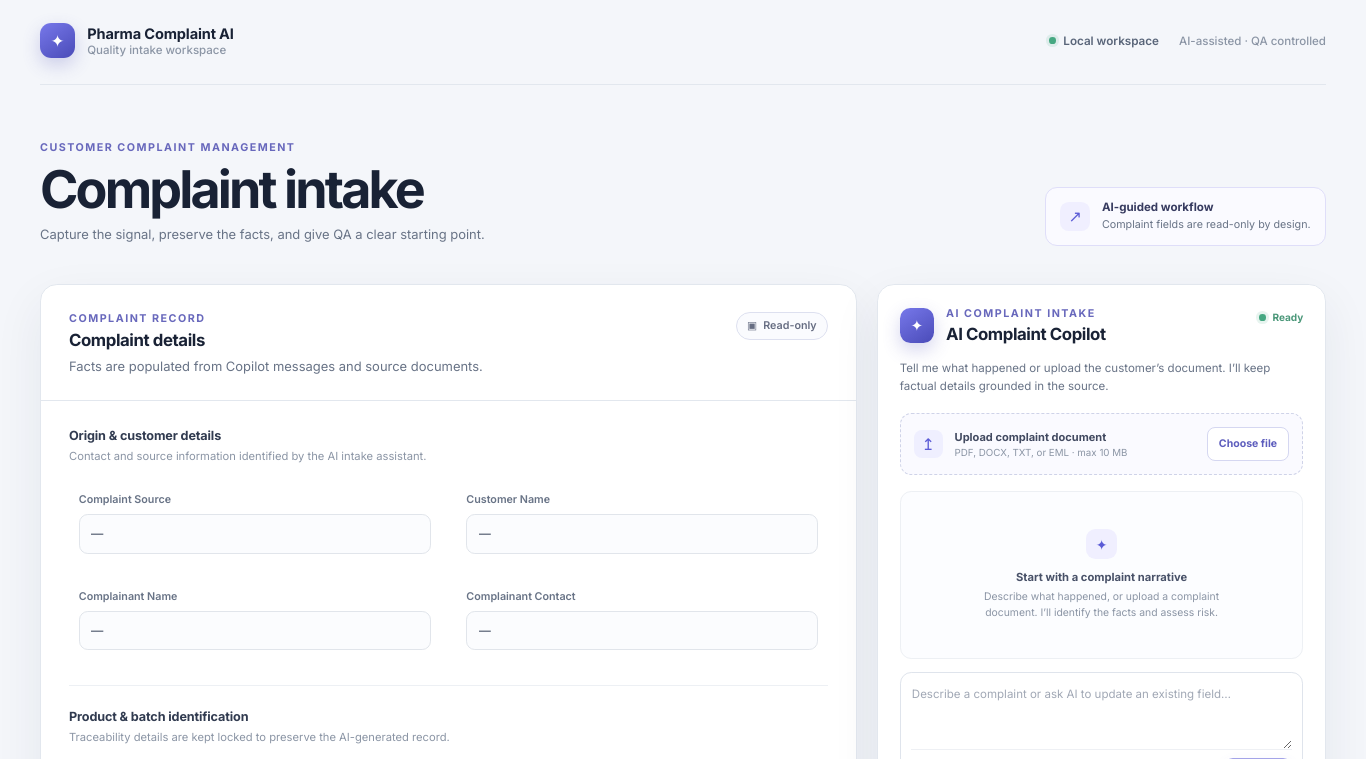
Test: ComplaintPage AI workflow › refreshes AI insights when a natural-language edit returns a new response
Type "Log the complaint for ABC Pharma." into the text box named "AI Copilot message" at x=1102, y=716, box [911, 684, 1292, 749]
(page scrolled)
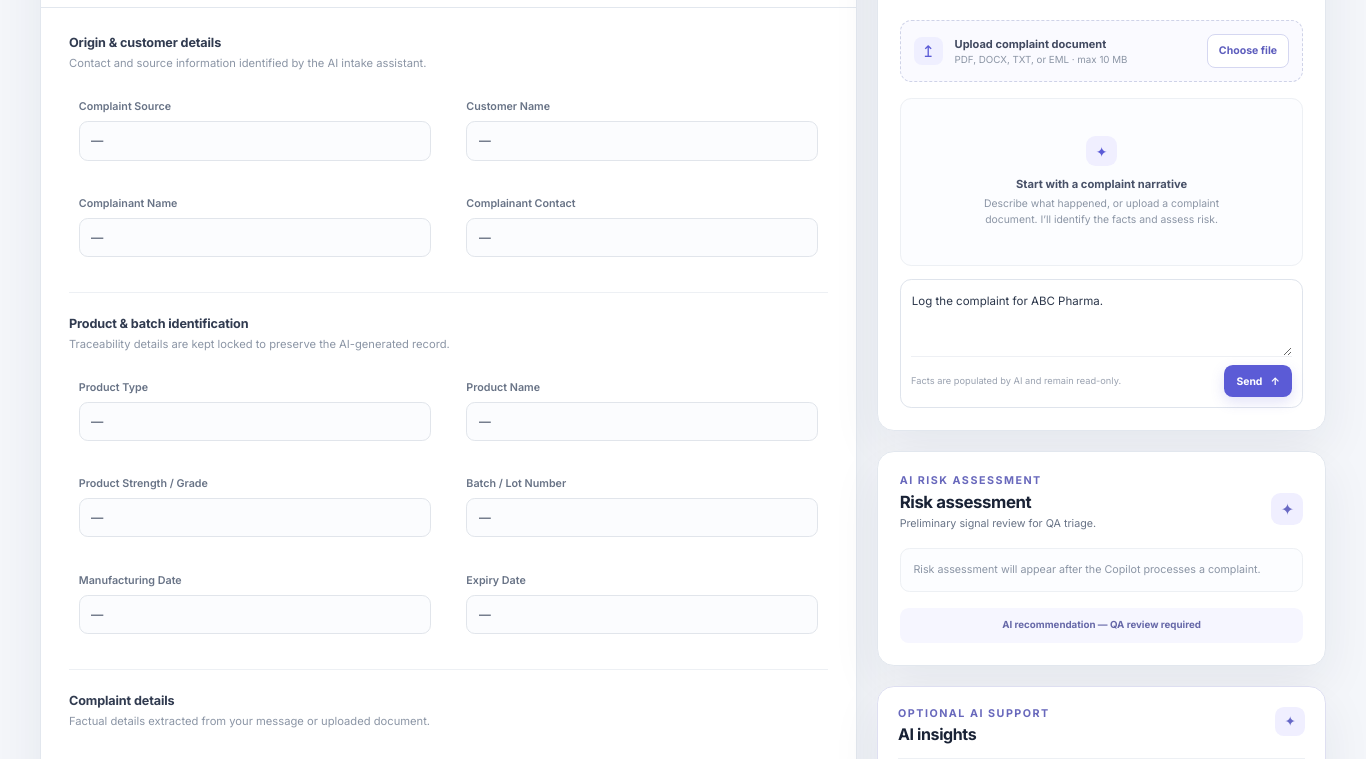
Click the button "Send ↑" at x=1258, y=381, box [1224, 365, 1292, 397]
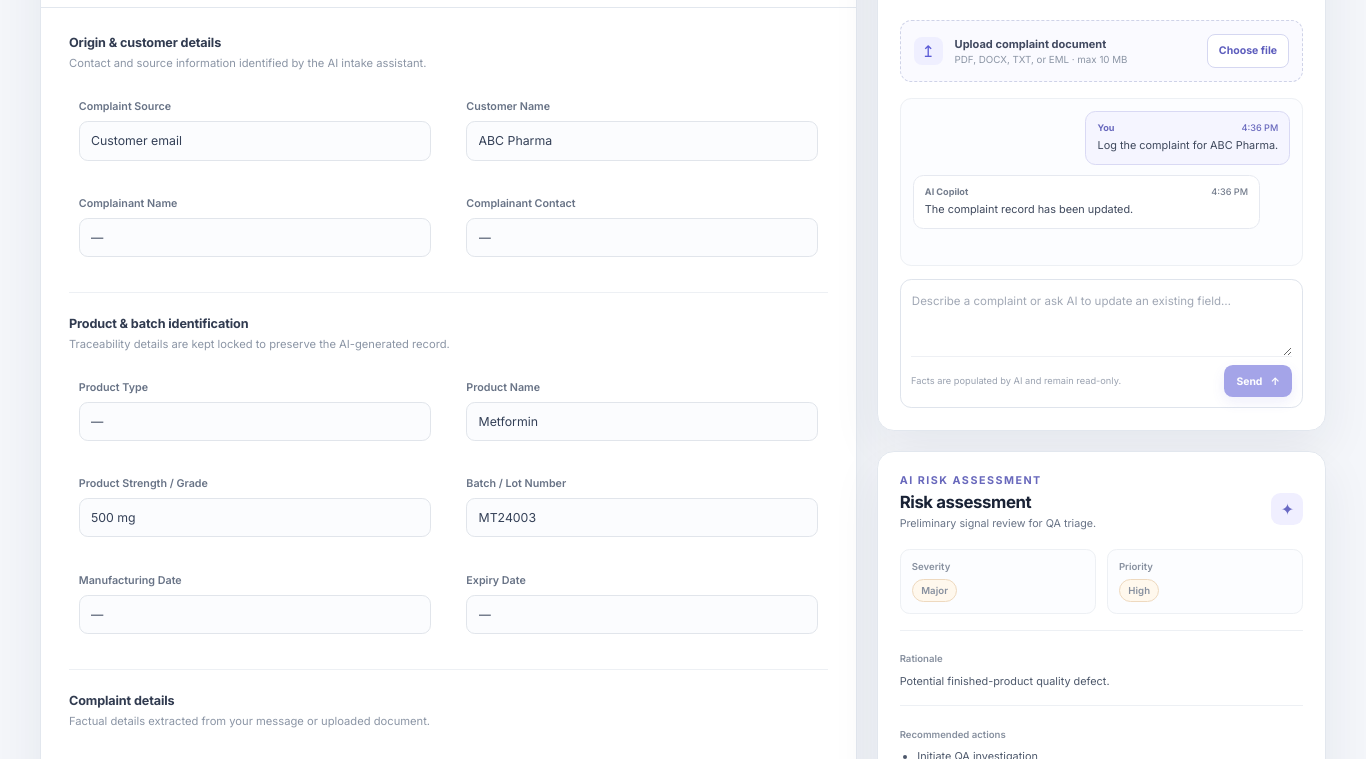
Type "Actually change the quantity to 500." into the text box named "AI Copilot message" at x=1102, y=323, box [911, 290, 1292, 356]
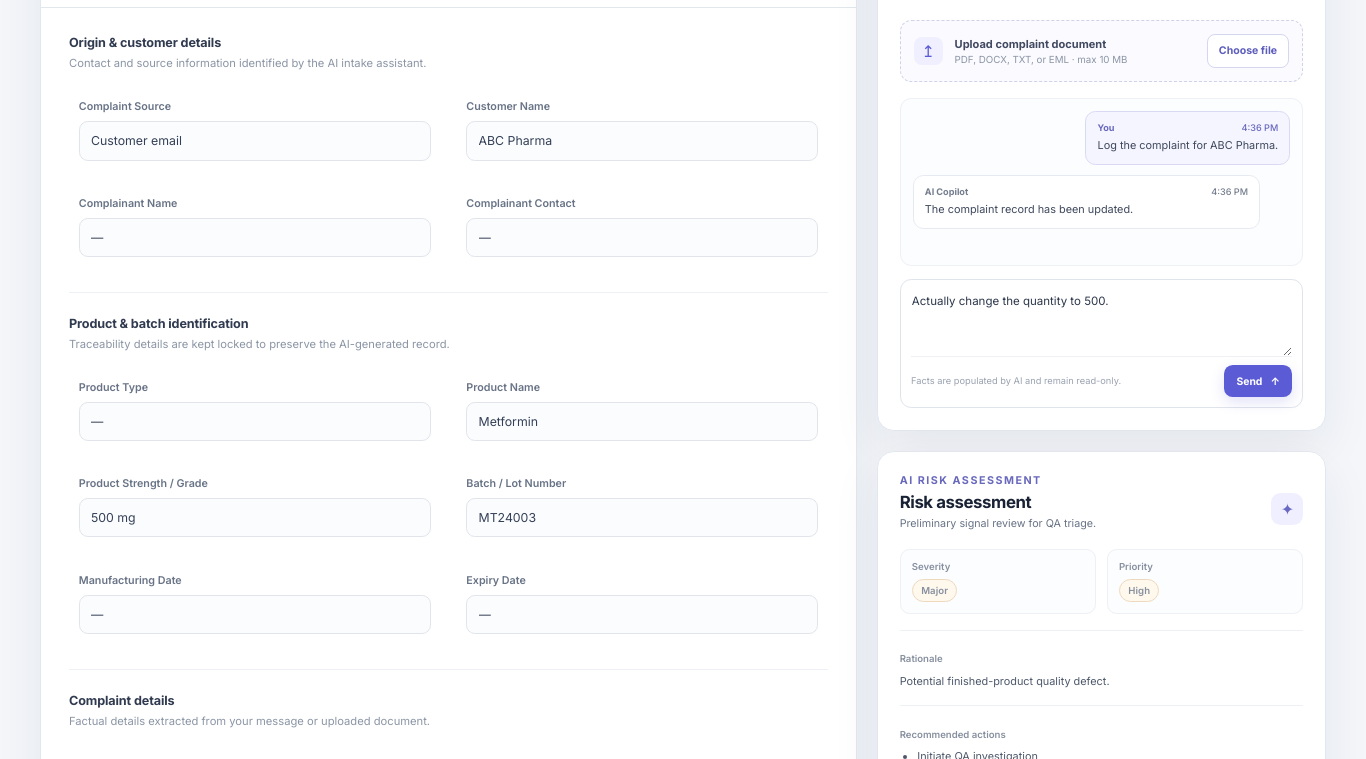
Click the button "Send ↑" at x=1258, y=381, box [1224, 365, 1292, 397]
(page scrolled)
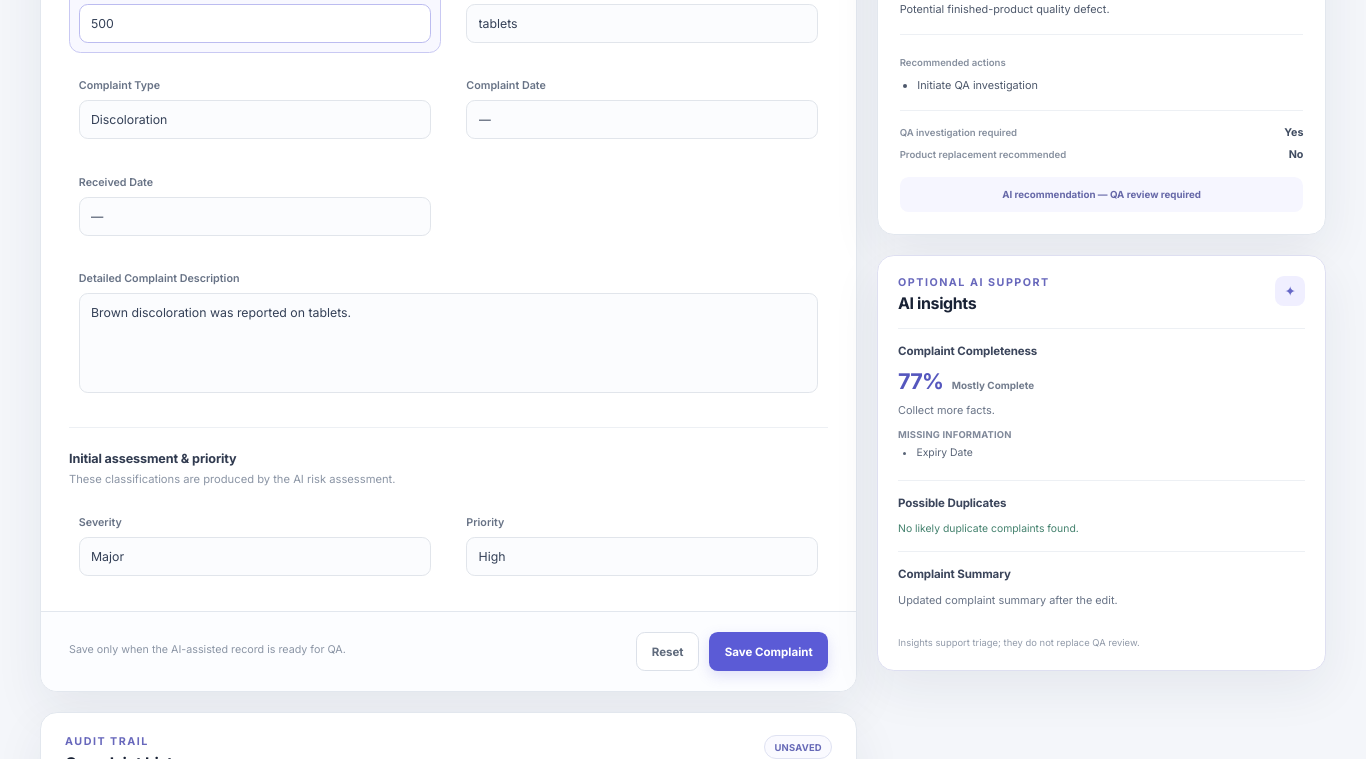
Check: the text "Updated complaint summary after the edit." is shown, box [898, 593, 1118, 607]
Check: the text "77%" is shown, box [898, 368, 943, 394]
